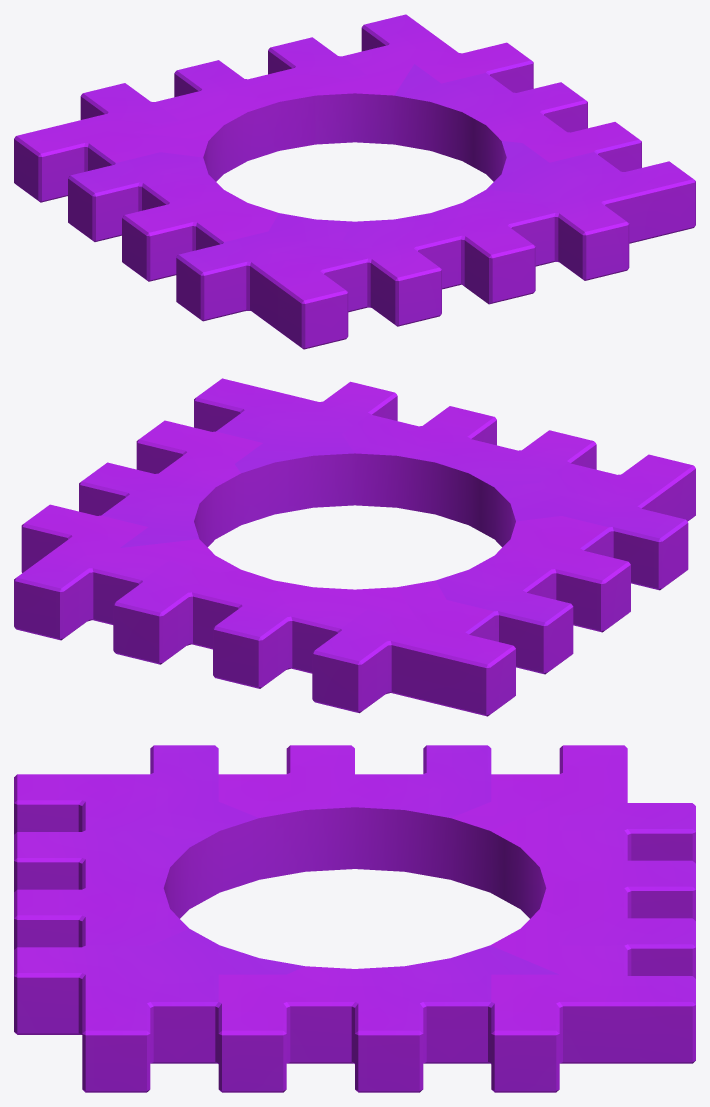
Rendered from PinkHole.fbx.
3 renders of one model, top to bottom at view 1: azimuth 30°, elevation 25°; view 2: azimuth 150°, elevation 25°; view 3: azimuth 270°, elevation 25°, orthographic. The views are drawn at different scales.
Visible parts, largest first — view 1: BlueSquareHole; view 2: BlueSquareHole; view 3: BlueSquareHole.
Boxes of the visible parts, left/top/right/bottom form: BlueSquareHole: left=14, top=14, right=695, bottom=349; BlueSquareHole: left=14, top=378, right=695, bottom=716; BlueSquareHole: left=14, top=745, right=695, bottom=1092.
Bounding box in the file's own units: 5 × 0.4999 × 5.
